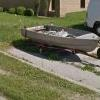Boat: (17, 13, 99, 63)
